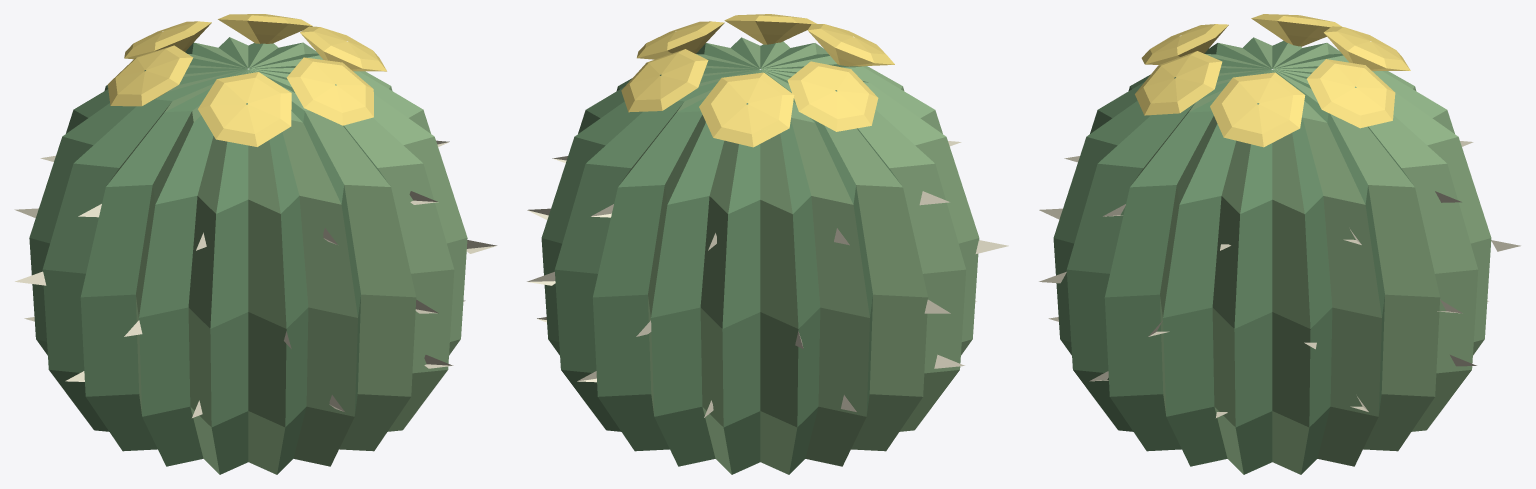
The model's file is cactus-barrel-a.glb.
The picture shows the model from 3 angles, left to right: view 1: azimuth 30°, elevation 25°; view 2: azimuth 150°, elevation 25°; view 3: azimuth 270°, elevation 25°; orthographic projection.
Visible parts, largest first — view 1: cactus-barrel-a; view 2: cactus-barrel-a; view 3: cactus-barrel-a.
Part boxes in pixels (<box>): cactus-barrel-a: <box>14,14,497,474</box>; cactus-barrel-a: <box>527,14,1008,474</box>; cactus-barrel-a: <box>1039,14,1520,474</box>.
Bounding box in the file's own units: 0.4481 × 0.3627 × 0.4413.
